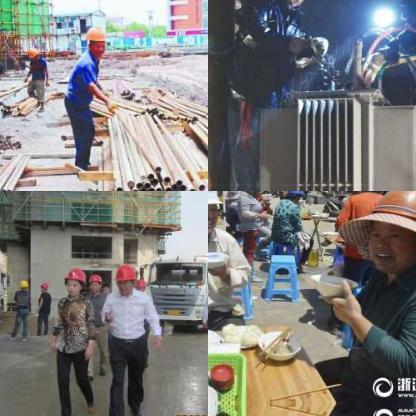Helmet: (369, 191, 415, 269), (82, 19, 106, 57), (110, 261, 136, 293), (208, 191, 224, 235), (61, 266, 85, 295), (86, 270, 100, 294), (25, 44, 39, 58), (36, 278, 50, 292), (283, 191, 304, 200), (18, 276, 28, 290)
